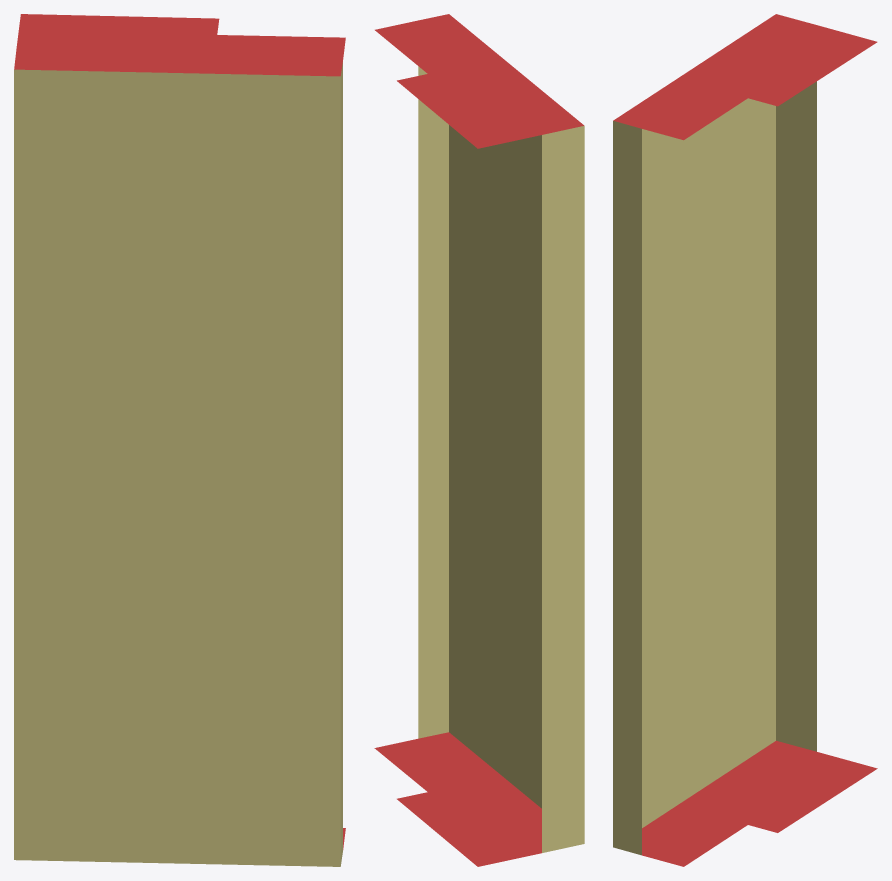
3 renders of one model, left to right at view 1: azimuth 30°, elevation 25°; view 2: azimuth 150°, elevation 25°; view 3: azimuth 270°, elevation 25°, orthographic. The views are drawn at different scales.
Visible parts, largest first — view 1: group_4, group_3; view 2: group_4, group_3, group_5; view 3: group_4, group_3, group_5.
Boxes of the visible parts, bbox=[...] form: group_4: bbox=[14, 62, 342, 866]; group_3: bbox=[14, 14, 345, 76]; group_4: bbox=[418, 66, 584, 852]; group_3: bbox=[375, 14, 583, 148]; group_5: bbox=[374, 732, 541, 866]; group_4: bbox=[613, 81, 816, 855]; group_3: bbox=[613, 14, 877, 140]; group_5: bbox=[642, 740, 877, 866].
Size of the model in its own units: 6.16 by 5.46 by 16.52.
